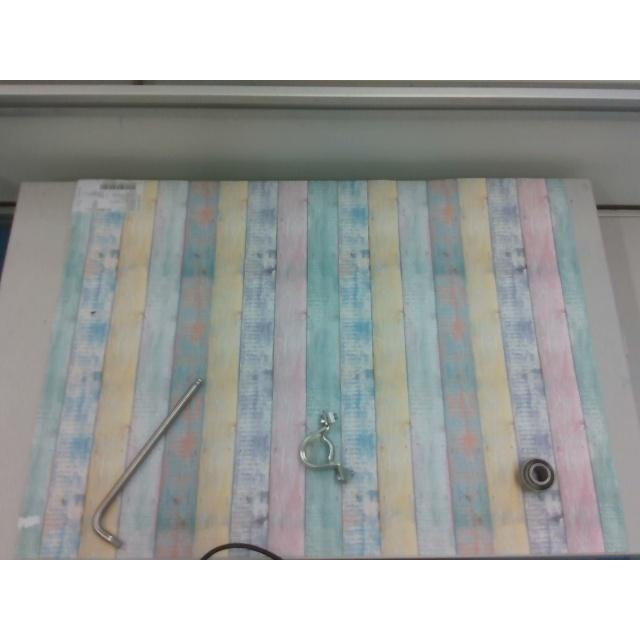AllenKey: (91, 377, 203, 548)
Bearing2: (518, 458, 554, 490)
Housing: (298, 411, 350, 482)
